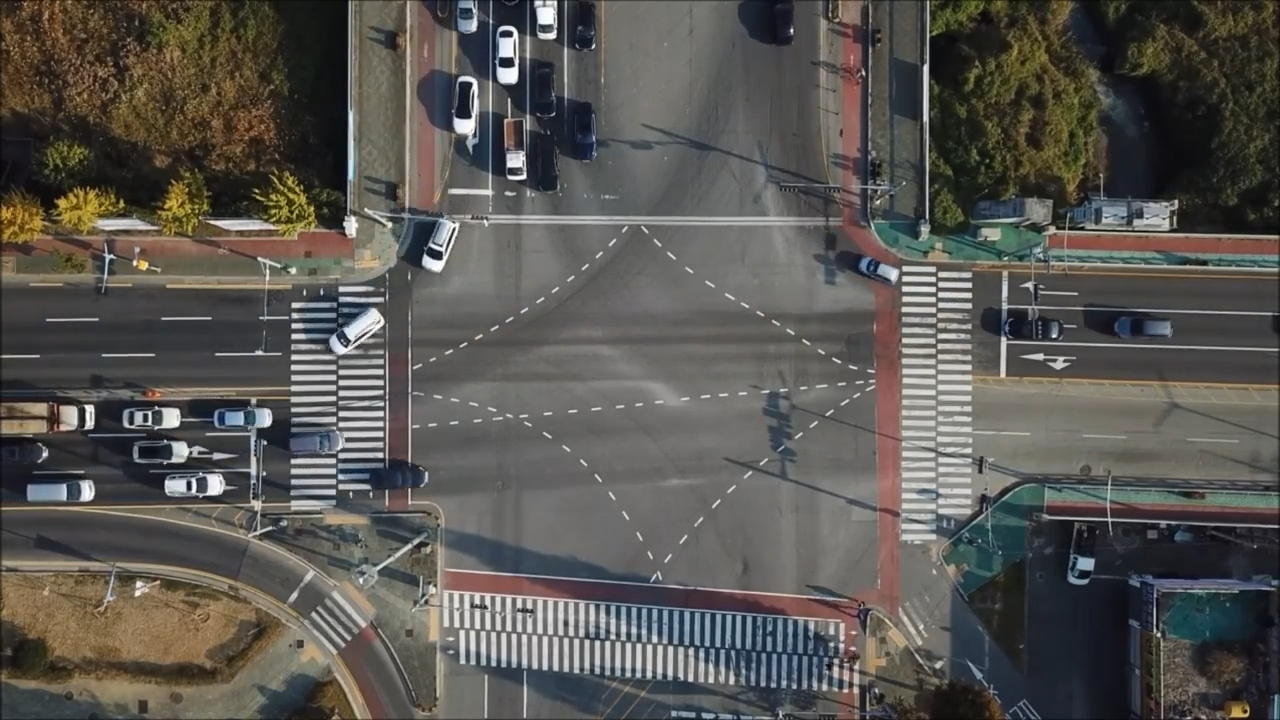car: (1, 402, 98, 433), (328, 306, 387, 356), (420, 215, 461, 274), (1067, 521, 1097, 586), (492, 21, 519, 85), (1114, 315, 1175, 342), (162, 473, 227, 498), (534, 124, 559, 189), (451, 75, 477, 137), (26, 481, 94, 504), (1003, 316, 1067, 340), (766, 1, 800, 46), (367, 465, 428, 490), (134, 441, 192, 467), (502, 117, 526, 179), (285, 429, 344, 454), (532, 55, 557, 114), (1, 437, 52, 465), (123, 406, 184, 428), (574, 102, 596, 162), (212, 406, 271, 427), (858, 257, 901, 283), (573, 1, 595, 50), (533, 1, 559, 36), (455, 1, 480, 34)
